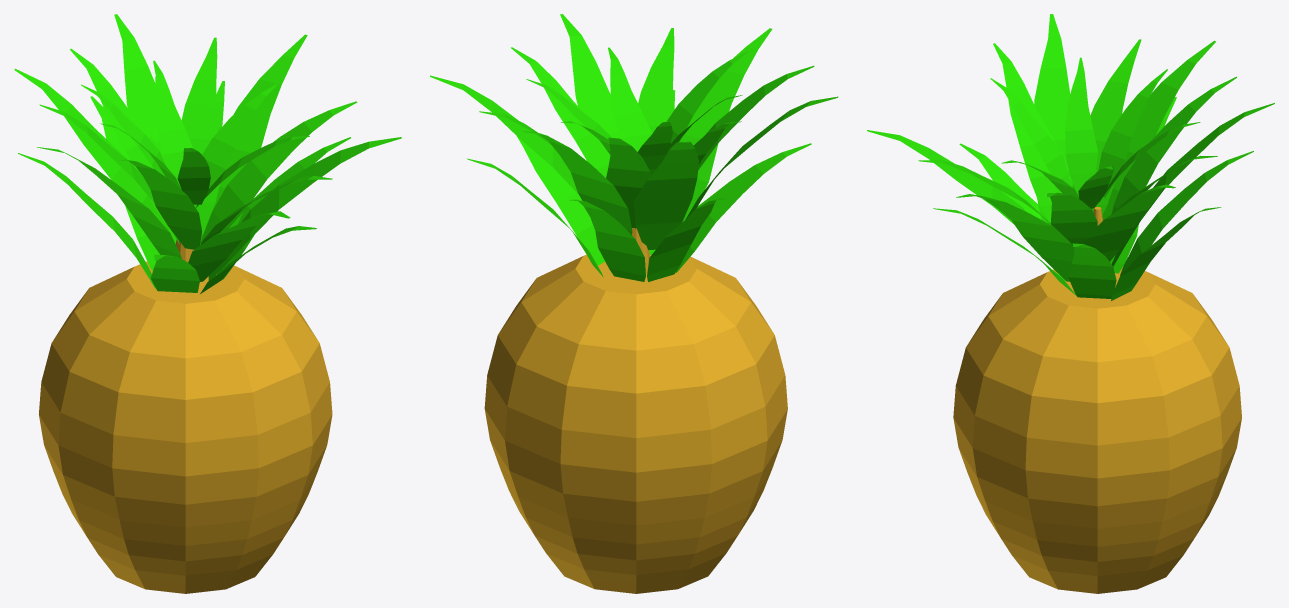
File: Pineapple.glb
3 views of the same model, side by side, from view 1: azimuth 30°, elevation 25°; view 2: azimuth 150°, elevation 25°; view 3: azimuth 270°, elevation 25° (orthographic). The views are drawn at different scales.
Parts seen in each view (by area): view 1: Cylinder, Plane.001, Plane.002, Plane.003, Plane.005; view 2: Cylinder, Plane.001, Plane.005, Plane.002, Plane.003; view 3: Cylinder, Plane.001, Plane.002, Plane.003, Plane.005.
Boxes of the visible parts, x1,y1,x2,y2 form: Cylinder: (39, 239, 332, 593); Plane.001: (14, 14, 401, 281); Plane.002: (39, 37, 357, 249); Plane.003: (81, 60, 309, 207); Plane.005: (18, 81, 350, 293); Cylinder: (484, 228, 787, 593); Plane.001: (430, 14, 838, 249); Plane.005: (467, 90, 811, 281); Plane.002: (479, 28, 814, 228); Plane.003: (526, 47, 747, 174); Cylinder: (953, 207, 1241, 593); Plane.001: (867, 14, 1274, 281); Plane.002: (918, 39, 1236, 247); Plane.003: (990, 57, 1200, 208); Plane.005: (933, 97, 1253, 300).
Size of the model in its own units: 4.78 by 6.51 by 5.16.
